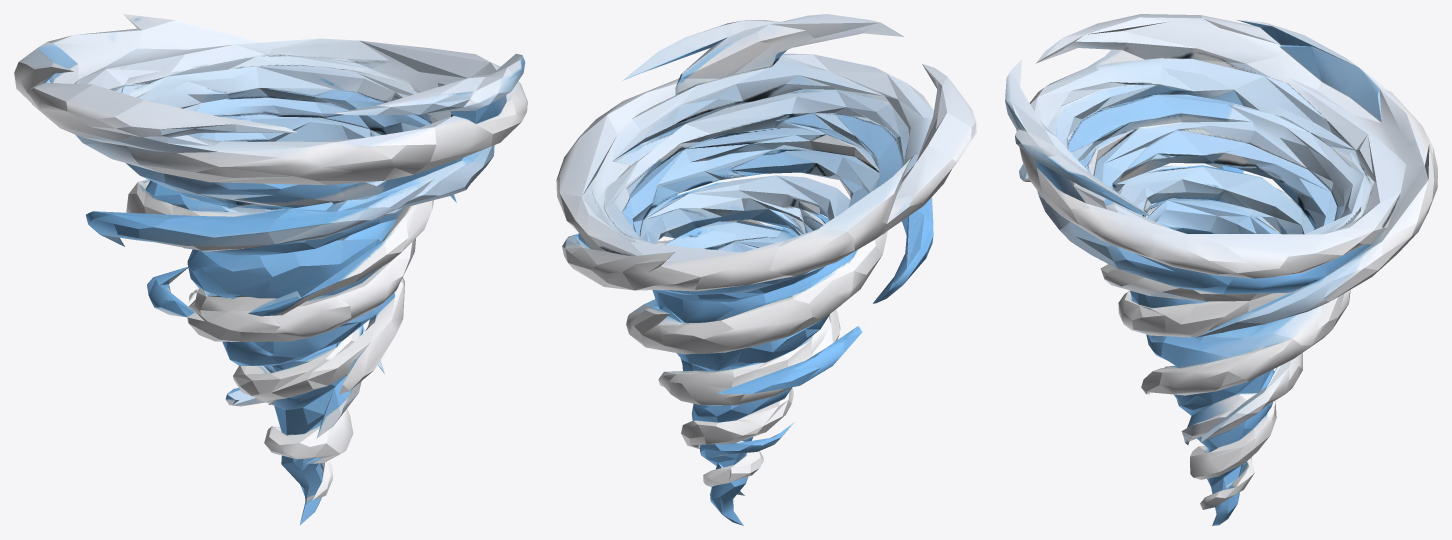
File: whirlwind.glb
3 views of the same model, side by side, from view 1: azimuth 30°, elevation 25°; view 2: azimuth 150°, elevation 25°; view 3: azimuth 270°, elevation 25° (orthographic). The views are drawn at different scales.
Size of the model in its own units: 1.69 by 1.9 by 1.71.
1 material, 1 textured.
